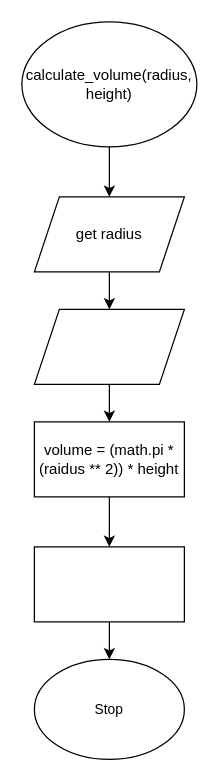
This 219x781 diagram has some shape labels left out. The centre of each missing label's shape, as x and y in pixels:
"get height" goes at point 108,346.
"return volume" goes at point 108,584.
